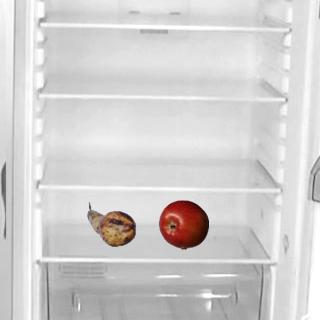Apple Braeburn: (158, 199, 208, 249)
Pear Abate: (86, 199, 136, 249)
